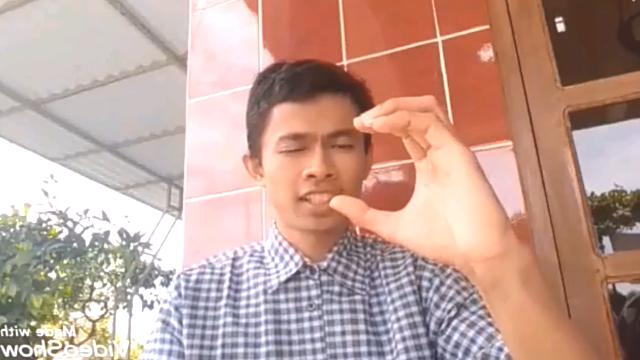C: (330, 94, 514, 268)
